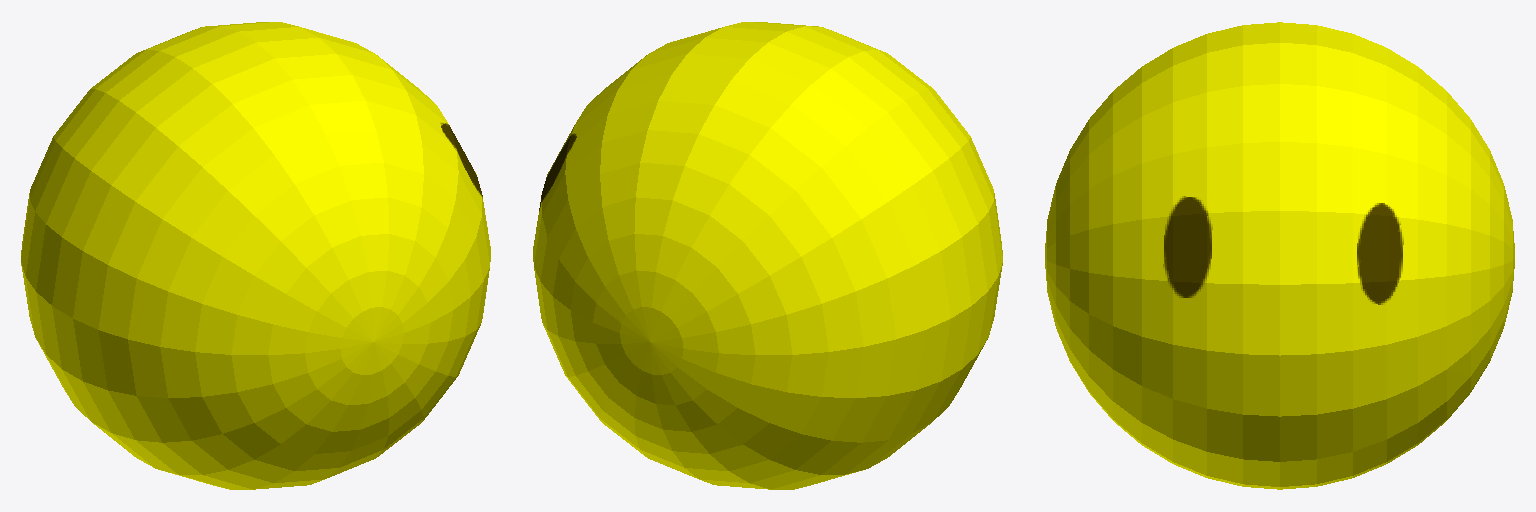
The picture shows the model from 3 angles: view 1: azimuth 30°, elevation 25°; view 2: azimuth 150°, elevation 25°; view 3: azimuth 270°, elevation 25°; orthographic projection.
Visible parts, largest first — view 1: pSphere3; view 2: pSphere3; view 3: pSphere3.
Boxes of the visible parts, x1,y1,x2,y2 form: pSphere3: [21, 22, 490, 489]; pSphere3: [533, 22, 1002, 489]; pSphere3: [1045, 22, 1514, 489].
Bounding box in the file's own units: 2 × 2 × 2.
Materials: 1 (1 with a texture image).